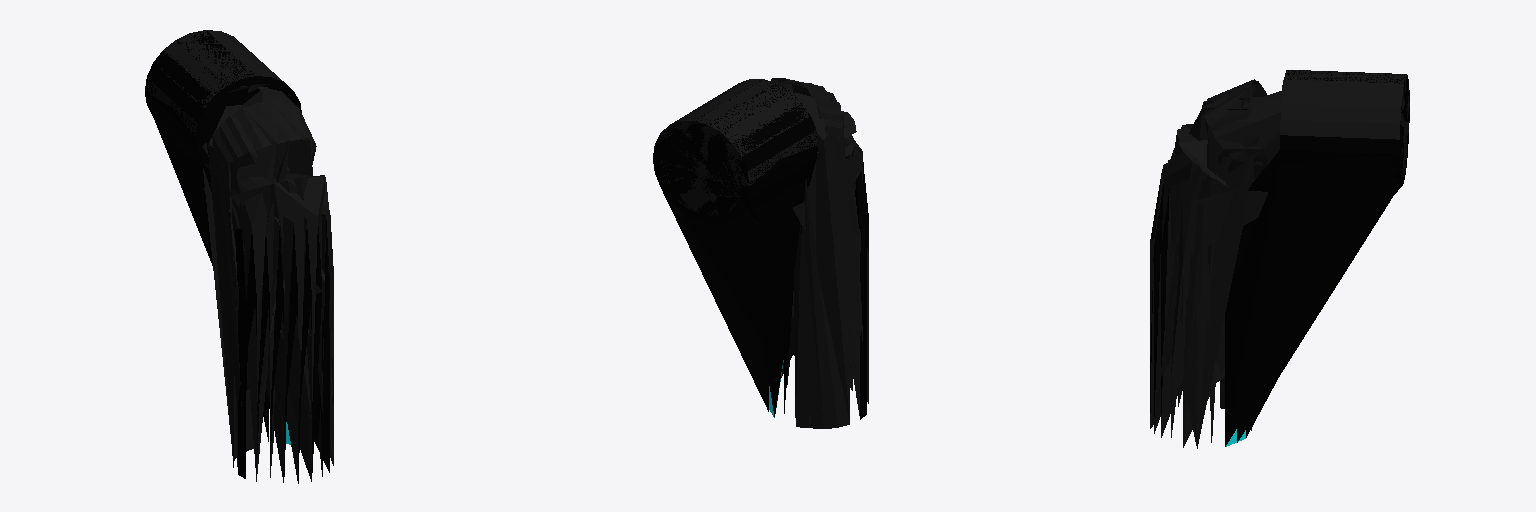
The model's file is Periscope.obj.
3 views of the same model, side by side, from view 1: azimuth 30°, elevation 25°; view 2: azimuth 150°, elevation 25°; view 3: azimuth 270°, elevation 25° (orthographic).
Parts seen in each view (by area): view 1: Cylinder005, Cylinder006; view 2: Cylinder005, Cylinder006, Cylinder004; view 3: Cylinder005, Cylinder006.
Boxes of the visible parts, <box> form: Cylinder005: <box>145,30,333,483</box>; Cylinder006: <box>145,31,301,166</box>; Cylinder005: <box>655,78,868,428</box>; Cylinder006: <box>653,80,817,223</box>; Cylinder004: <box>660,128,746,215</box>; Cylinder005: <box>1150,70,1409,448</box>; Cylinder006: <box>1280,70,1409,185</box>.
Bounding box in the file's own units: 125039 × 382844 × 253324.